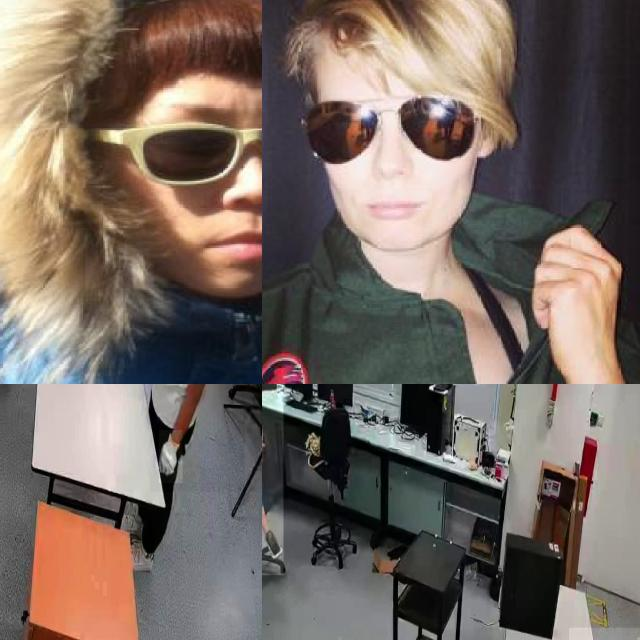face_nomask: (123, 106, 262, 275), (314, 91, 461, 226)
glasses: (84, 95, 262, 189), (297, 89, 497, 163)
hand_glove: (159, 430, 183, 484)
hand_noglove: (522, 218, 630, 371)
head_nohelmet: (82, 0, 262, 103), (283, 0, 507, 72)
person: (262, 0, 640, 384), (0, 0, 262, 384), (150, 384, 245, 493), (262, 384, 284, 576)
shoes: (262, 518, 286, 562)
